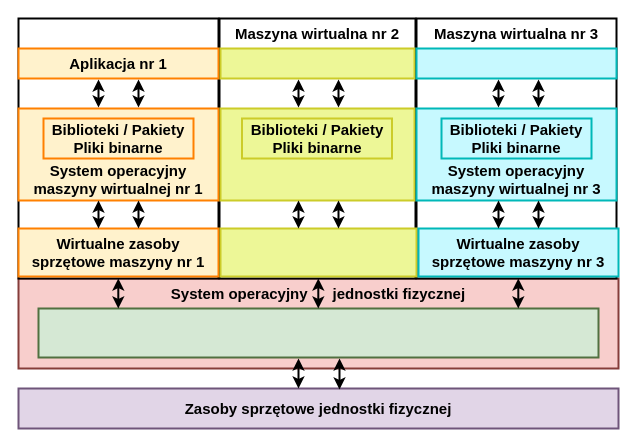
Image size: 636x446. Some labels were removed from this diagram. The box of each missing label's shape, as (x1, y1, x2, y2) in pixels:
Aplikacja nr 2: (219, 47, 415, 79)
Aplikacja nr 3: (415, 47, 617, 79)
Hyperwizor: (37, 307, 599, 358)
Maszyna wirtualna nr 1: (17, 17, 219, 279)
System operacyjny maszyny wirtualnej nr 2: (219, 107, 415, 201)
Wirtualne zasoby sprzętowe maszyny nr 2: (219, 227, 417, 277)
